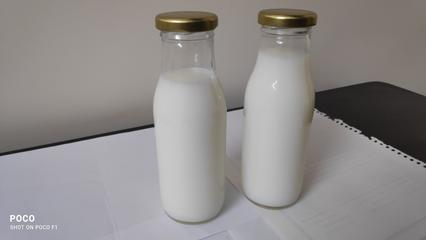milk: (242, 4, 323, 228), (147, 11, 231, 224)
